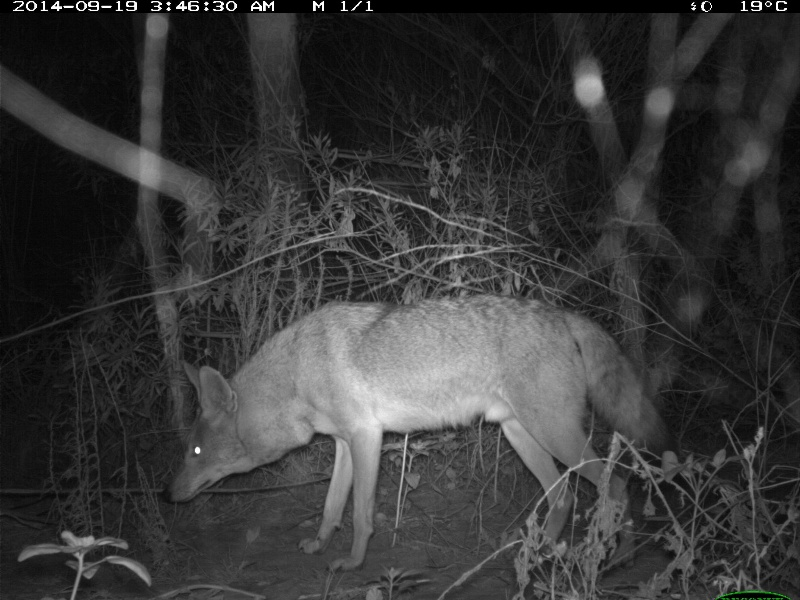coyote: (157, 293, 683, 571)
